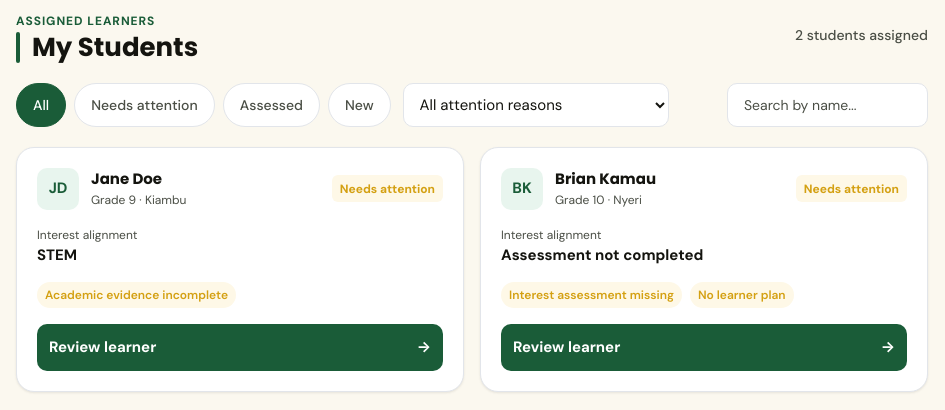
Test case: StudentListPage › filters the caseload by explicit attention reason
The width and height of the screenshot is (945, 410).
Expected: the heading "Jane Doe" is shown, [91, 168, 162, 189]
Select "No learner plan" in the dropdown named "Filter by attention reason". click: [536, 105]
box: [403, 83, 669, 127]
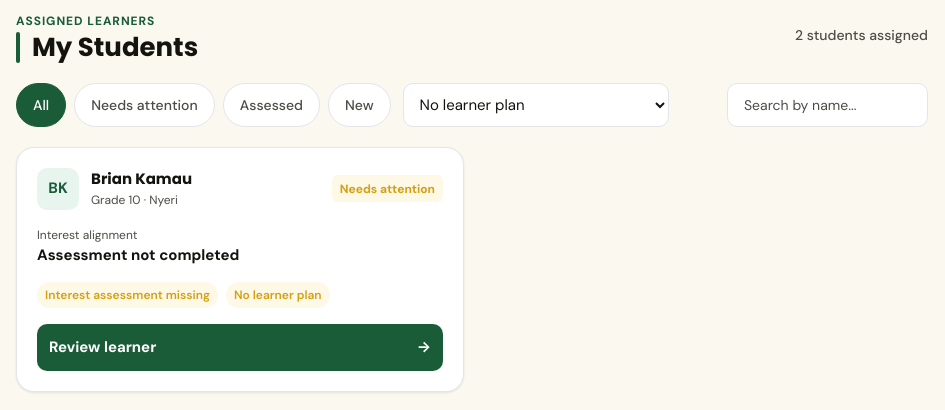
Expected: the heading "Brian Kamau" is shown, [91, 168, 192, 189]
Expected: the heading "Jane Doe" is gone
